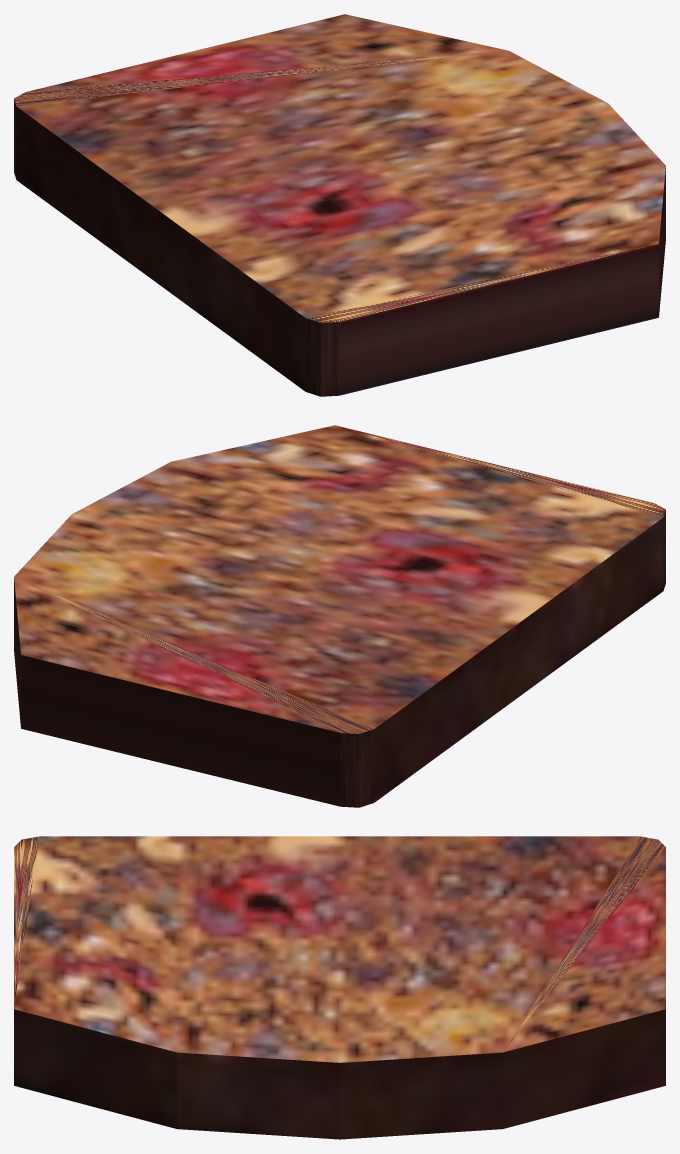
File: WorldItem_FruitcakeSlice.fbx
The picture shows the model from 3 angles, top to bottom: view 1: azimuth 30°, elevation 25°; view 2: azimuth 150°, elevation 25°; view 3: azimuth 270°, elevation 25°; orthographic projection. The views are drawn at different scales.
Parts seen in each view (by area): view 1: Cube; view 2: Cube; view 3: Cube.
Part boxes in pixels (x1,y1,x2,y2): Cube: (14, 14, 665, 396); Cube: (14, 425, 665, 807); Cube: (14, 836, 665, 1139).
Size of the model in its own units: 0.0367 by 0.00578 by 0.0446.
